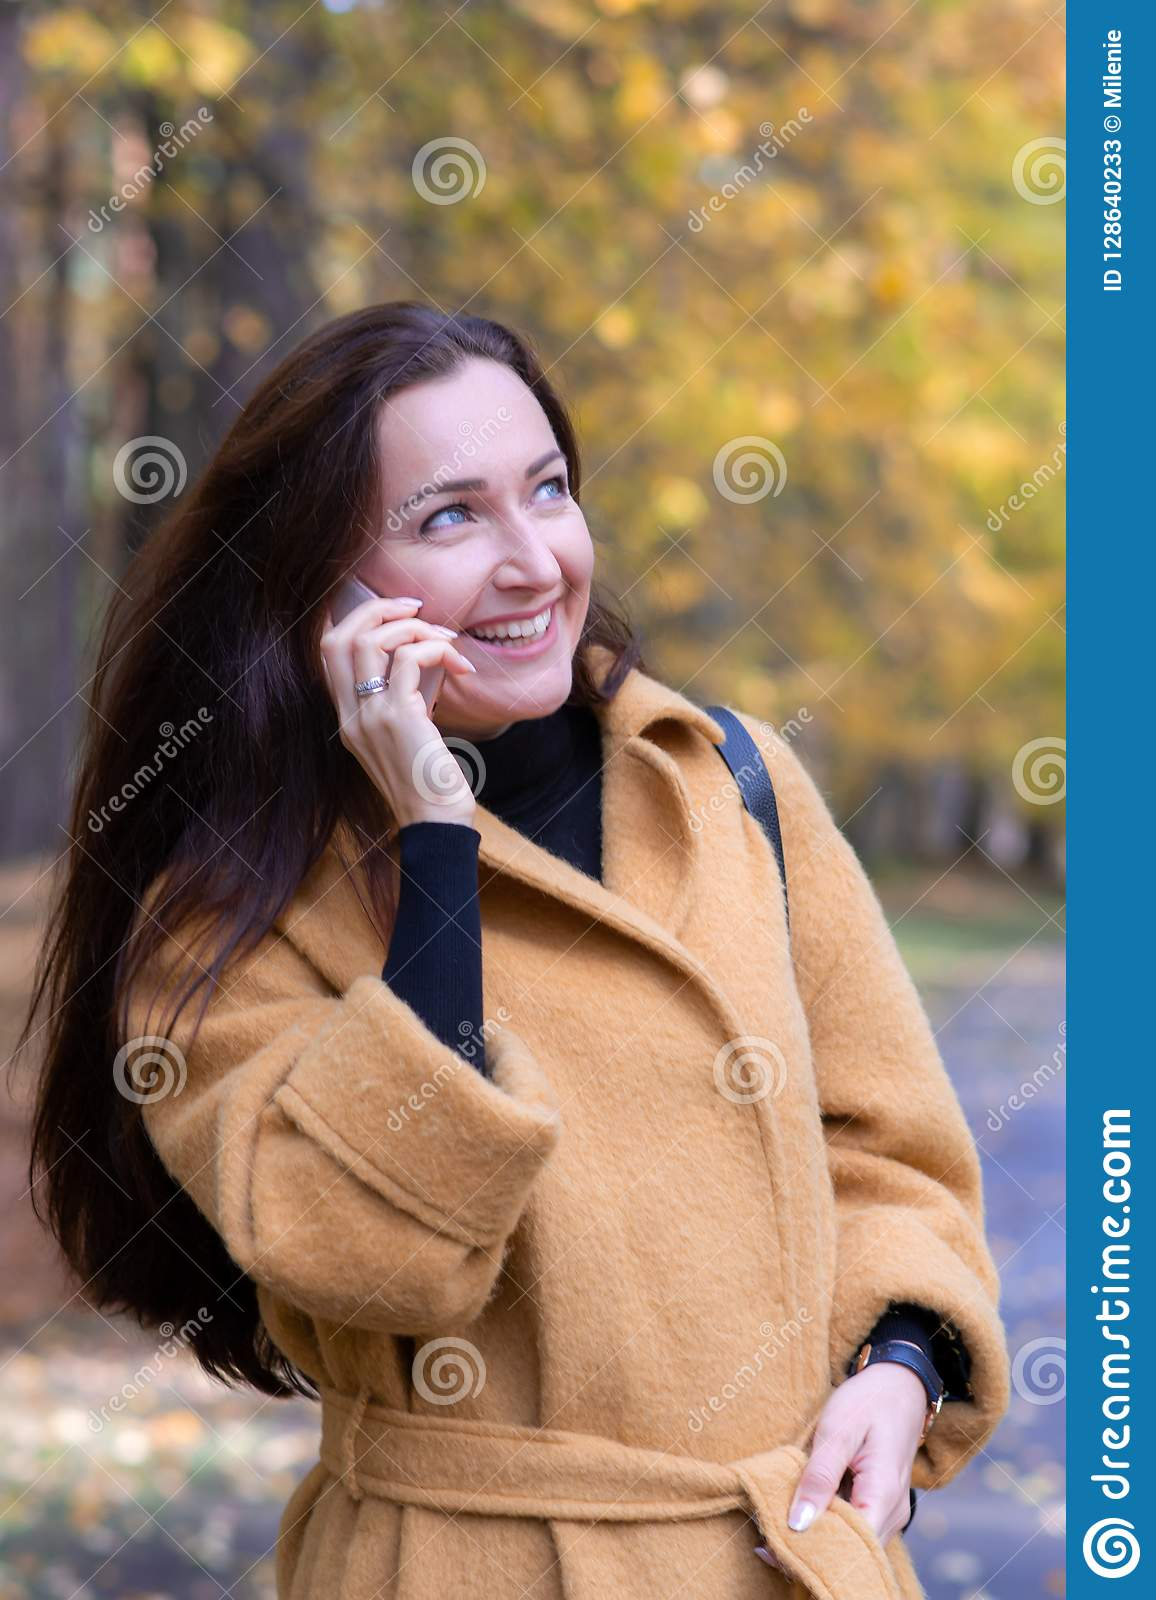phone: (318, 579, 449, 735)
talk: (315, 440, 598, 839)
